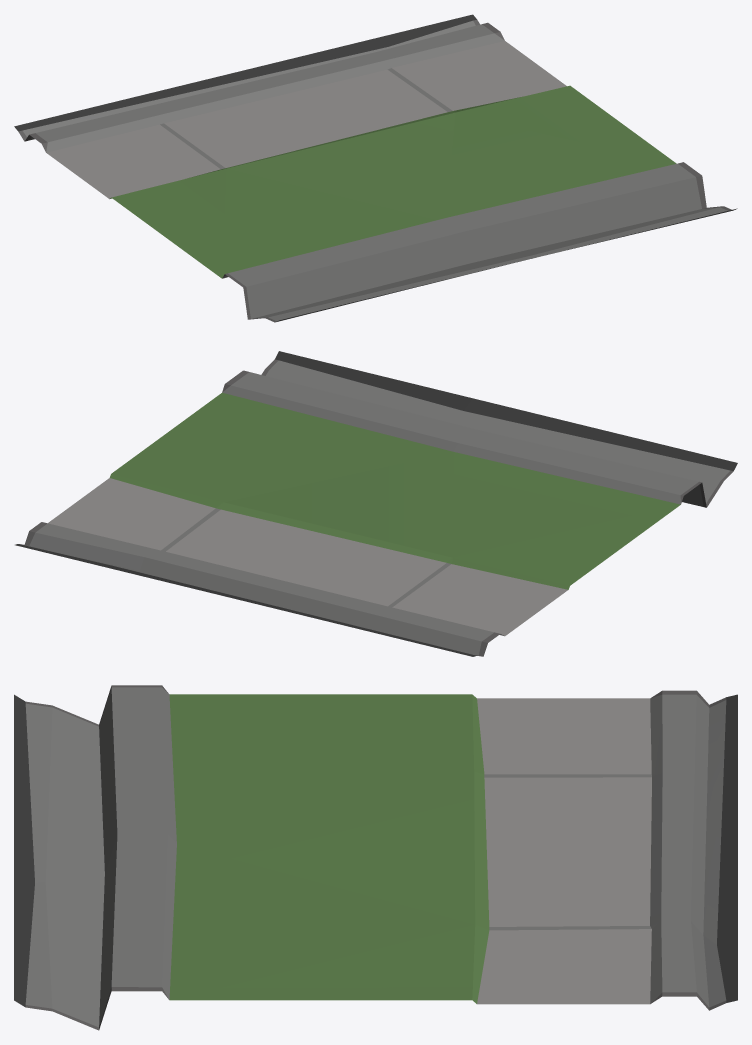
The model's file is SM_Env_Sidewalk_Straight_04.fbx.
3 views of the same model, one above another, from view 1: azimuth 30°, elevation 25°; view 2: azimuth 150°, elevation 25°; view 3: azimuth 270°, elevation 25° (orthographic). The views are drawn at different scales.
Visible parts, largest first — view 1: SM_Env_Sidewalk_Straight_04; view 2: SM_Env_Sidewalk_Straight_04; view 3: SM_Env_Sidewalk_Straight_04.
Boxes of the visible parts, x1,y1,x2,y2 form: SM_Env_Sidewalk_Straight_04: [14, 14, 737, 322]; SM_Env_Sidewalk_Straight_04: [15, 351, 737, 656]; SM_Env_Sidewalk_Straight_04: [14, 685, 737, 1030].
Bounding box in the file's own units: 500 × 30 × 500.
